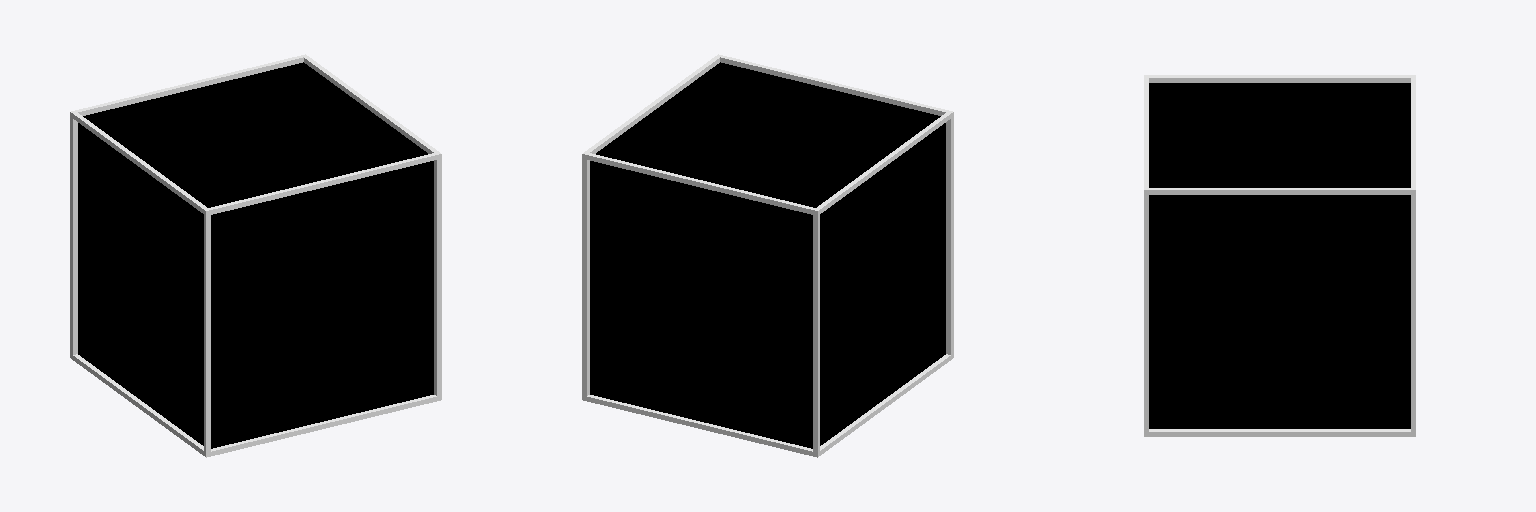
The model's file is Body1.obj.
3 renders of one model, left to right at view 1: azimuth 30°, elevation 25°; view 2: azimuth 150°, elevation 25°; view 3: azimuth 270°, elevation 25°, orthographic.
Parts seen in each view (by area): view 1: Body1; view 2: Body1; view 3: Body1.
Boxes of the visible parts, x1,y1,x2,y2 form: Body1: [70, 54, 441, 457]; Body1: [582, 54, 953, 457]; Body1: [1144, 75, 1415, 436].
Size of the model in its own units: 1 by 1 by 1.